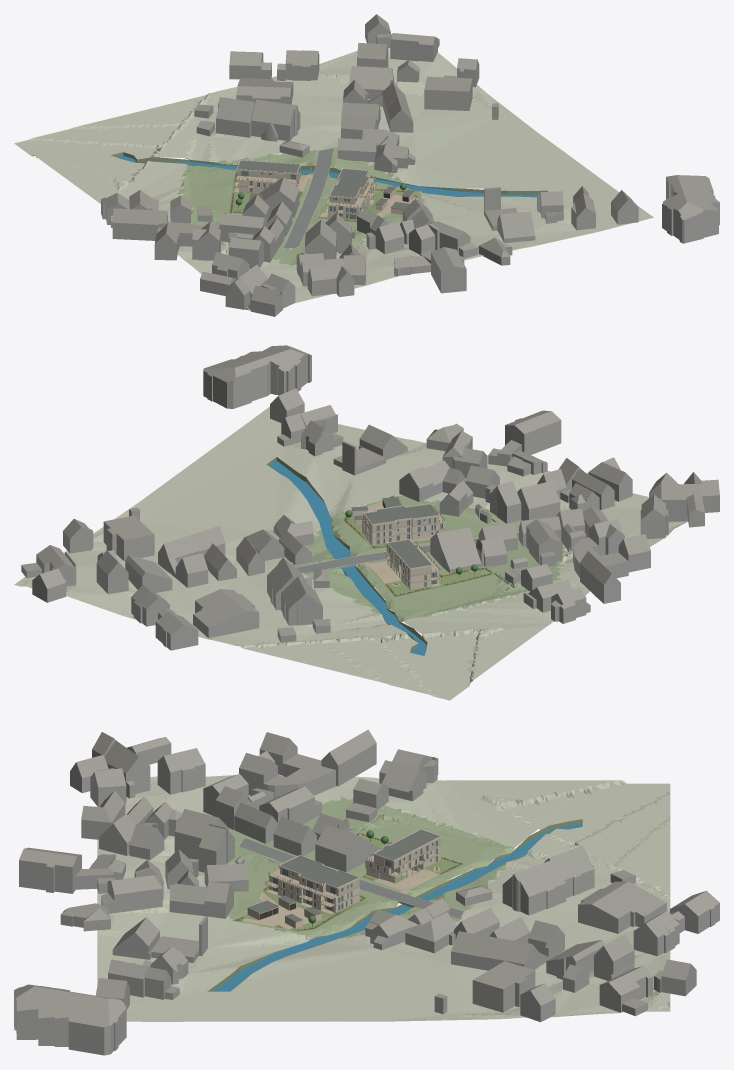
Rendered from Finkenberg_Projekt.glb.
3 renders of one model, top to bottom at view 1: azimuth 30°, elevation 25°; view 2: azimuth 150°, elevation 25°; view 3: azimuth 270°, elevation 25°, orthographic. The views are drawn at different scales.
Parts seen in each view (by area): view 1: Umgebung_Bodenhoehen_LoD1_schematisch, Gelaende_TIN_Vermessung_interpoliert, 8,_8/1_Keltergasse__DEBW_51000004YFA_WallSurface, 8,_8/1_Keltergasse__DEBW_51000004YFA_RoofSurface, Fahrbahn_Vermessene_Raender, 3_Keltergasse__DEBW_51000004YFw_RoofSurface, Ufer_Boeschung_interpoliert, Gewaesser_Umriss_WBF_Wasserstand_angenommen, Mühlbergstraße__DEBW_51000004Z5b_RoofSurface, 2/1_Panoramastraße__DEBW_5100000aDde_WallSurface, 11_Unterlandstraße__DEBW_51000004YMV_WallSurface, 6_Finkenbergstraße__DEBW_51000004YzO_WallSurface (+25 smaller); view 2: Umgebung_Bodenhoehen_LoD1_schematisch, Gelaende_TIN_Vermessung_interpoliert, 8,_8/1_Keltergasse__DEBW_51000004YFA_WallSurface, Gewaesser_Umriss_WBF_Wasserstand_angenommen, 8,_8/1_Keltergasse__DEBW_51000004YFA_RoofSurface, Mühlbergstraße__DEBW_51000004Z5b_RoofSurface, 9_Unterlandstraße__DEBW_51000004YMU_WallSurface, 7_Finkenbergstraße__DEBW_51000004YzP_RoofSurface, 6_Finkenbergstraße__DEBW_51000004YzO_WallSurface, 3_Keltergasse__DEBW_51000004YFw_WallSurface, 6_Finkenbergstraße__DEBW_51000004YzO_RoofSurface, Mühlbergstraße__DEBW_51000004Z5b_WallSurface (+30 smaller); view 3: Umgebung_Bodenhoehen_LoD1_schematisch, Gelaende_TIN_Vermessung_interpoliert, 8,_8/1_Keltergasse__DEBW_51000004YFA_WallSurface, 8,_8/1_Keltergasse__DEBW_51000004YFA_RoofSurface, Gewaesser_Umriss_WBF_Wasserstand_angenommen, 9_Unterlandstraße__DEBW_51000004YMU_WallSurface, Mühlbergstraße__DEBW_51000004Z5b_RoofSurface, 6_Finkenbergstraße__DEBW_51000004YzO_WallSurface, 15_Finkenbergstraße__DEBW_51000004YzV_WallSurface, Ufer_Boeschung_interpoliert, 2/1_Panoramastraße__DEBW_5100000aDde_WallSurface, Mühlbergstraße__DEBW_51000004Z5b_WallSurface (+71 smaller).
Part boxes in pixels (box(x1,y1,x2,y2)): Umgebung_Bodenhoehen_LoD1_schematisch: box(14, 48, 653, 311); Gelaende_TIN_Vermessung_interpoliert: box(176, 147, 423, 265); 8,_8/1_Keltergasse__DEBW_51000004YFA_WallSurface: box(662, 177, 719, 243); 8,_8/1_Keltergasse__DEBW_51000004YFA_RoofSurface: box(662, 175, 719, 219); Fahrbahn_Vermessene_Raender: box(283, 148, 333, 248); 3_Keltergasse__DEBW_51000004YFw_RoofSurface: box(484, 187, 534, 238); Ufer_Boeschung_interpoliert: box(110, 152, 547, 197); Gewaesser_Umriss_WBF_Wasserstand_angenommen: box(117, 156, 537, 197); Mühlbergstraße__DEBW_51000004Z5b_RoofSurface: box(236, 78, 292, 98); 2/1_Panoramastraße__DEBW_5100000aDde_WallSurface: box(424, 77, 472, 110); 11_Unterlandstraße__DEBW_51000004YMV_WallSurface: box(409, 224, 470, 254); 6_Finkenbergstraße__DEBW_51000004YzO_WallSurface: box(305, 215, 351, 259); Umgebung_Bodenhoehen_LoD1_schematisch: box(14, 406, 688, 700); Gelaende_TIN_Vermessung_interpoliert: box(290, 496, 567, 621); 8,_8/1_Keltergasse__DEBW_51000004YFA_WallSurface: box(203, 354, 311, 408); Gewaesser_Umriss_WBF_Wasserstand_angenommen: box(269, 460, 426, 655); 8,_8/1_Keltergasse__DEBW_51000004YFA_RoofSurface: box(203, 345, 311, 382); Mühlbergstraße__DEBW_51000004Z5b_RoofSurface: box(193, 589, 258, 627); 9_Unterlandstraße__DEBW_51000004YMU_WallSurface: box(497, 420, 561, 466); 7_Finkenbergstraße__DEBW_51000004YzP_RoofSurface: box(436, 527, 483, 569); 6_Finkenbergstraße__DEBW_51000004YzO_WallSurface: box(490, 482, 560, 523); 3_Keltergasse__DEBW_51000004YFw_WallSurface: box(333, 435, 407, 475); 6_Finkenbergstraße__DEBW_51000004YzO_RoofSurface: box(497, 481, 560, 508); Mühlbergstraße__DEBW_51000004Z5b_WallSurface: box(193, 589, 259, 638); Umgebung_Bodenhoehen_LoD1_schematisch: box(97, 774, 670, 1021); Gelaende_TIN_Vermessung_interpoliert: box(225, 796, 513, 941); 8,_8/1_Keltergasse__DEBW_51000004YFA_WallSurface: box(14, 990, 126, 1055); 8,_8/1_Keltergasse__DEBW_51000004YFA_RoofSurface: box(14, 984, 126, 1027); Gewaesser_Umriss_WBF_Wasserstand_angenommen: box(213, 823, 582, 991); 9_Unterlandstraße__DEBW_51000004YMU_WallSurface: box(19, 855, 114, 893); Mühlbergstraße__DEBW_51000004Z5b_RoofSurface: box(578, 881, 666, 918); 6_Finkenbergstraße__DEBW_51000004YzO_WallSurface: box(174, 818, 234, 872); 15_Finkenbergstraße__DEBW_51000004YzV_WallSurface: box(502, 874, 565, 915); Ufer_Boeschung_interpoliert: box(207, 819, 582, 991); 2/1_Panoramastraße__DEBW_5100000aDde_WallSurface: box(472, 971, 535, 1012); Mühlbergstraße__DEBW_51000004Z5b_WallSurface: box(578, 900, 666, 933).
Bounding box in the file's own units: 237 × 18.41 × 244.
